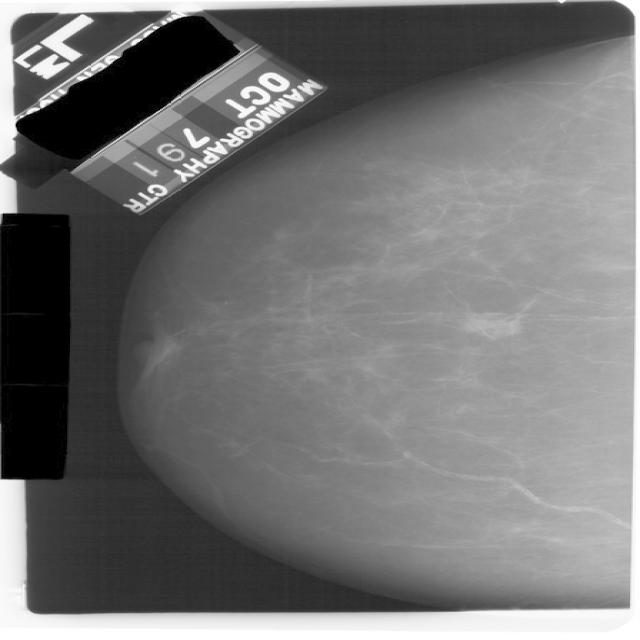tumour: (457, 312, 527, 337)
